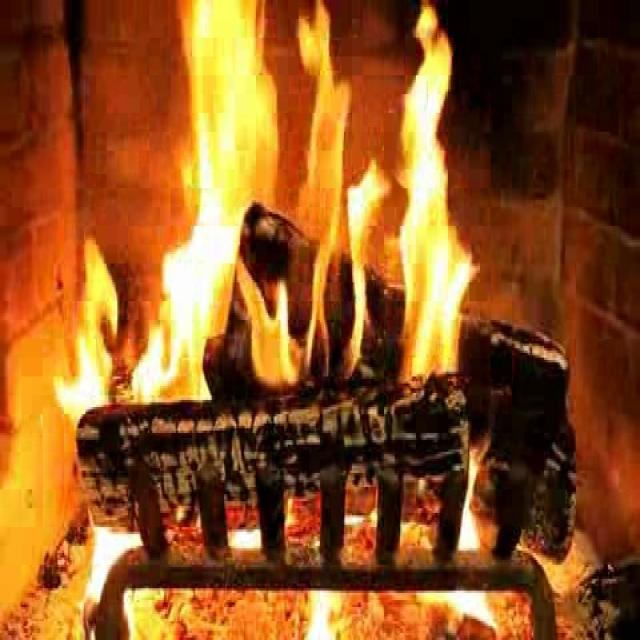fire: (154, 15, 469, 385)
